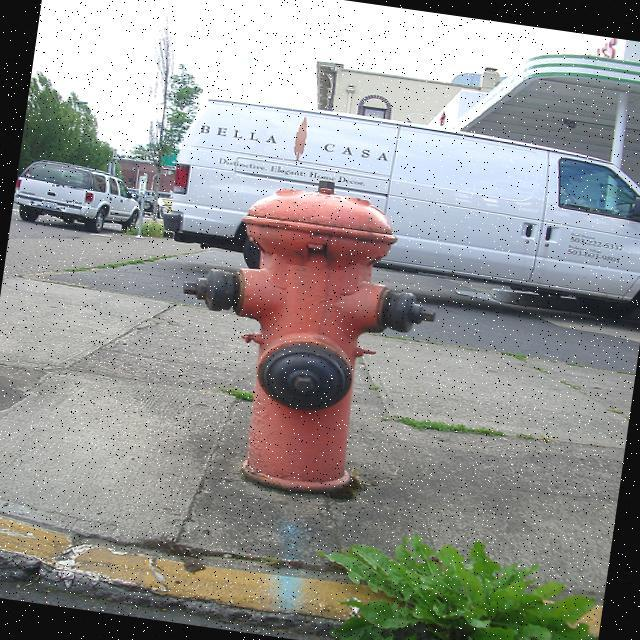fire_hydrant: (156, 161, 453, 508)
